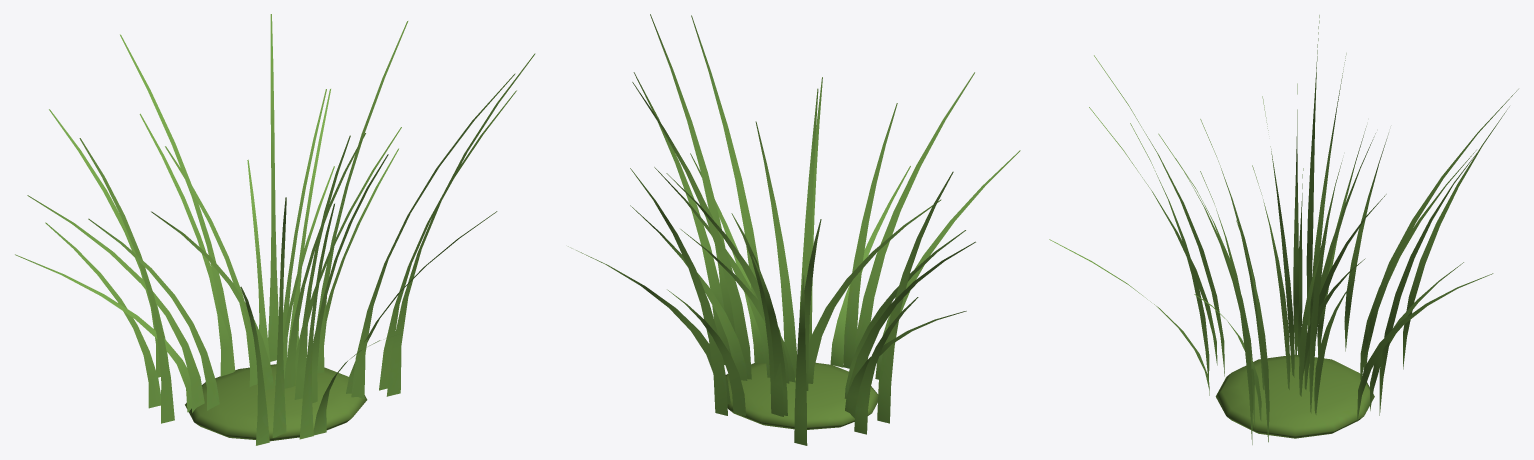
Rendered from sea_grass.glb.
3 renders of one model, left to right at view 1: azimuth 30°, elevation 25°; view 2: azimuth 150°, elevation 25°; view 3: azimuth 270°, elevation 25°, orthographic. The views are drawn at different scales.
Visible parts, largest first — view 1: 23 Sea Grass; view 2: 23 Sea Grass; view 3: 23 Sea Grass.
Part boxes in pixels (x1,y1,x2,y2): 23 Sea Grass: [15, 14, 535, 445]; 23 Sea Grass: [568, 14, 1020, 445]; 23 Sea Grass: [1049, 15, 1518, 444].
Bounding box in the file's own units: 0.7435 × 0.5677 × 0.7086.
2 materials, 2 textured.
